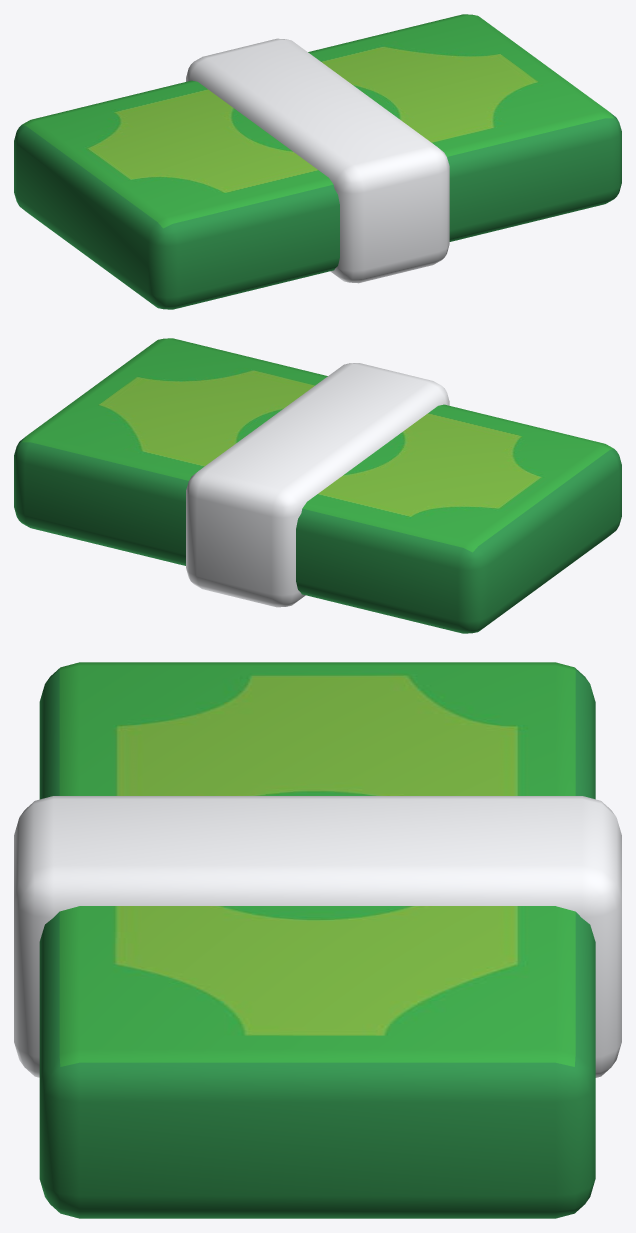
Rendered from cash2.fbx.
The picture shows the model from 3 angles, top to bottom: view 1: azimuth 30°, elevation 25°; view 2: azimuth 150°, elevation 25°; view 3: azimuth 270°, elevation 25°; orthographic projection. The views are drawn at different scales.
Visible parts, largest first — view 1: cash; view 2: cash; view 3: cash.
Boxes of the visible parts, box(x1,y1,x2,y2) form: cash: box(14, 14, 621, 309); cash: box(14, 338, 621, 633); cash: box(14, 662, 621, 1218).
Size of the model in its own units: 355 by 84.43 by 219.
Materials: 3 (1 with a texture image).
